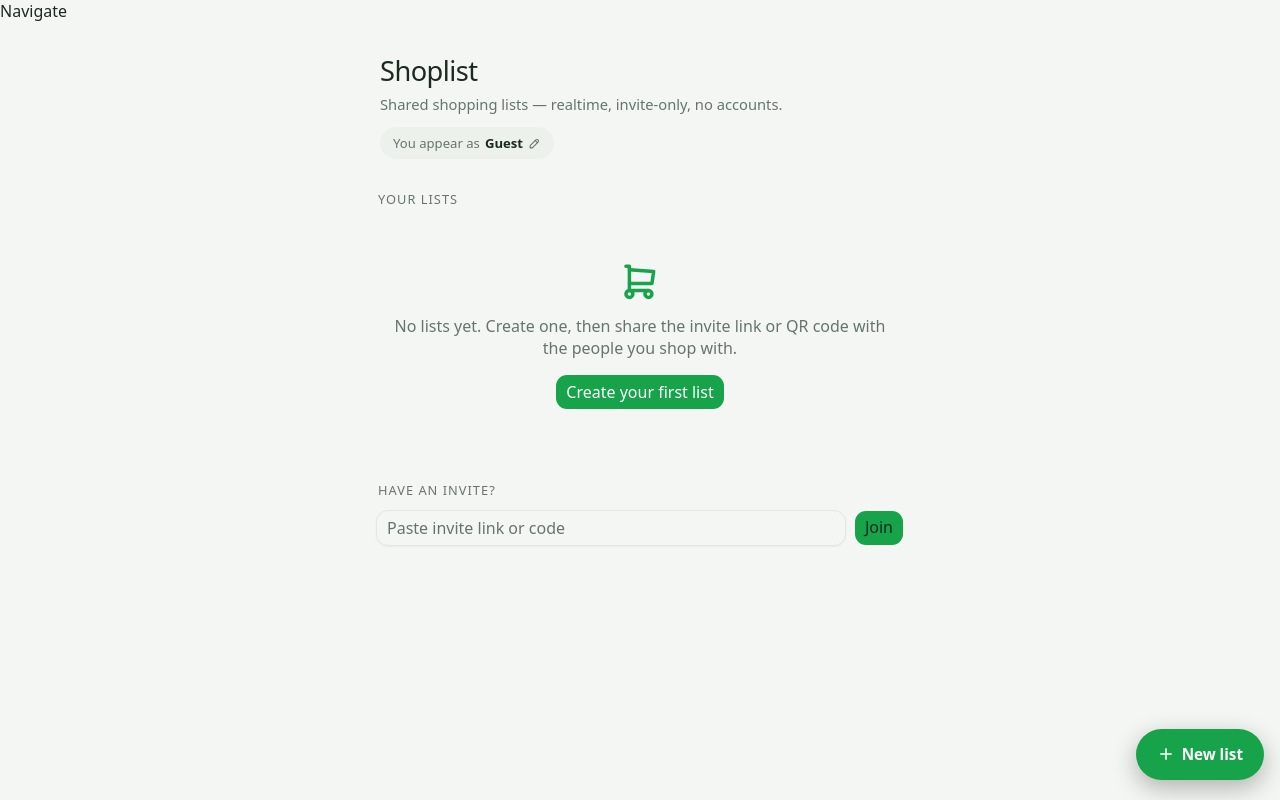
Scenario: application boundary › keeps notifications above an open dialog
This screenshot has width=1280, height=800.
What coordinates should you click on to do the following:
click the button "Create your first list"
I would click on:
 (640, 392)
Its box is [555,374,725,410].
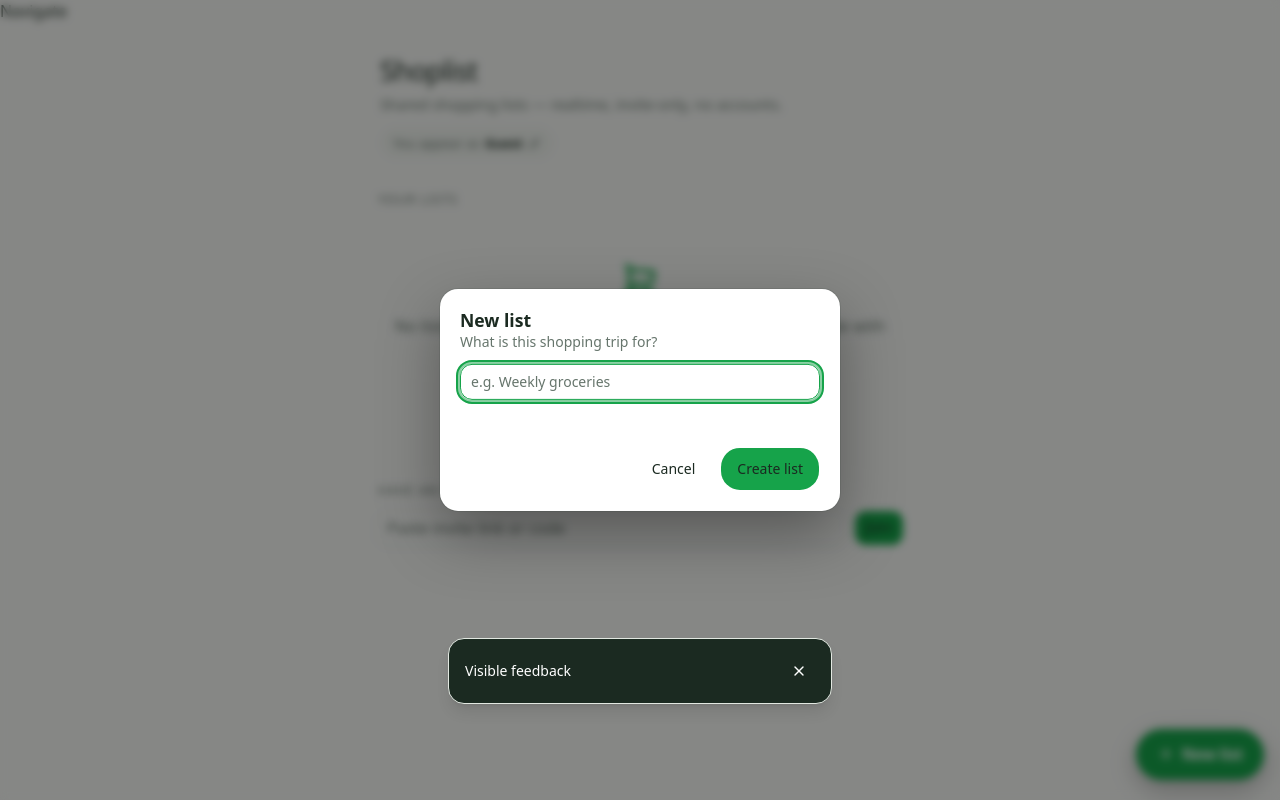
expect the heading "Visible feedback" is shown: met, box [465,661,571,680]
